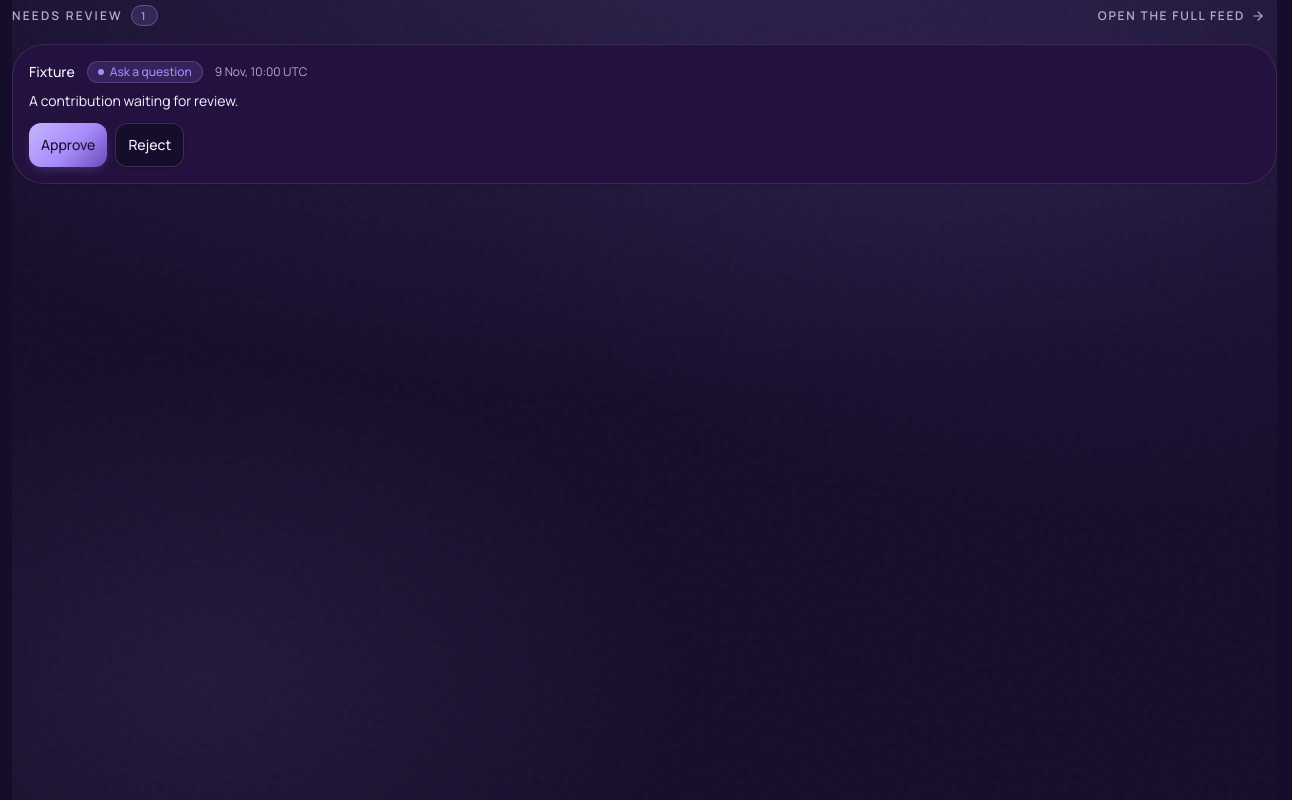
Test: missing revision feedback remains actionable and refreshes without assuming a successful rejection
Click the button "Reject": (150,145) left=115, top=123, right=184, bottom=167
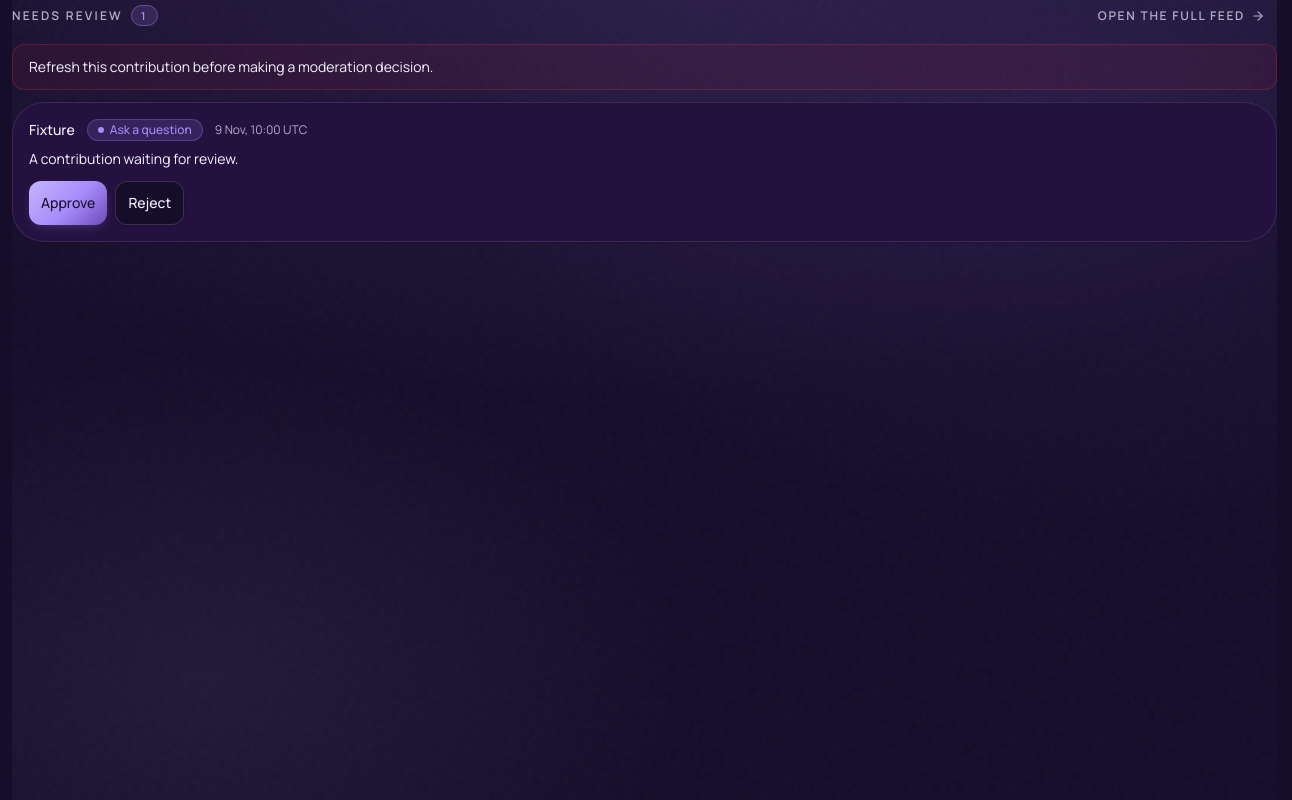
Expected: the text "A contribution waiting for review." is shown, left=29, top=149, right=238, bottom=168
Expected: the message shows "Refresh this contribution", left=29, top=57, right=433, bottom=76
